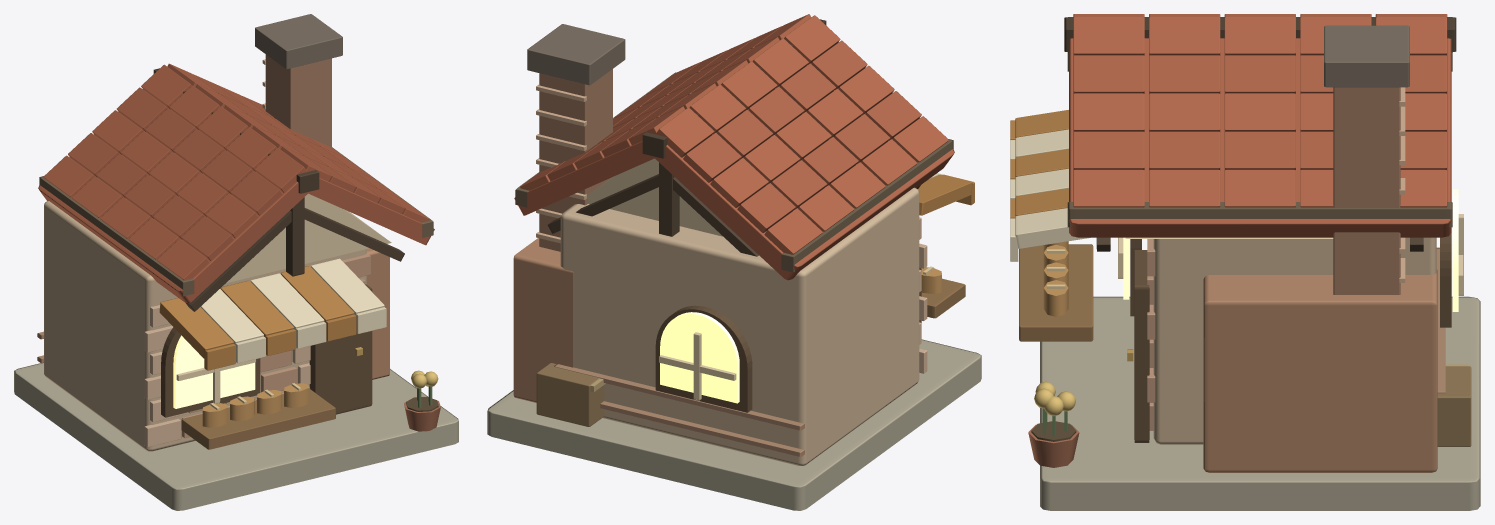
The model's file is bakery-0.glb.
3 views of the same model, side by side, from view 1: azimuth 30°, elevation 25°; view 2: azimuth 150°, elevation 25°; view 3: azimuth 270°, elevation 25° (orthographic). The views are drawn at different scales.
Visible parts, largest first — view 1: bakery-0-0; view 2: bakery-0-0; view 3: bakery-0-0.
Boxes of the visible parts, left/top/right/bottom form: bakery-0-0: left=14, top=14, right=458, bottom=510; bakery-0-0: left=487, top=14, right=981, bottom=510; bakery-0-0: left=1010, top=14, right=1480, bottom=510.
Size of the model in its own units: 1.9 by 2.1 by 2.03.
